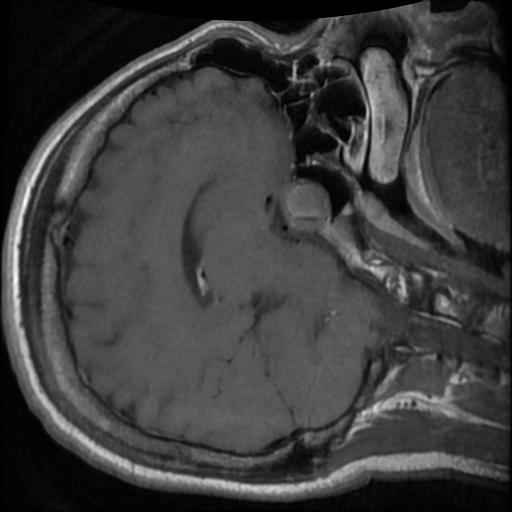pituitary tumour: (282, 181, 329, 232)
